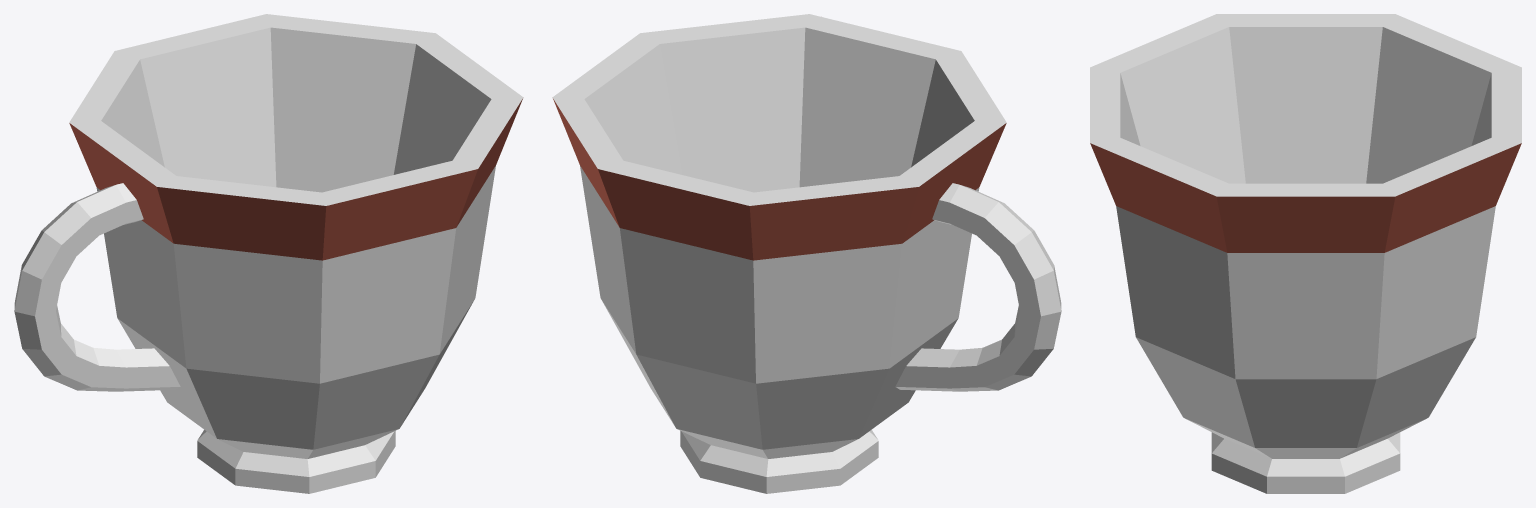
Rendered from Cup1_C3.fbx.
3 renders of one model, left to right at view 1: azimuth 30°, elevation 25°; view 2: azimuth 150°, elevation 25°; view 3: azimuth 270°, elevation 25°, orthographic.
Visible parts, largest first — view 1: Cup1_C3; view 2: Cup1_C3; view 3: Cup1_C3.
Part boxes in pixels (left/top/right/bottom): Cup1_C3: left=14, top=14, right=523, bottom=493; Cup1_C3: left=552, top=14, right=1061, bottom=493; Cup1_C3: left=1090, top=14, right=1521, bottom=493.
Bounding box in the file's own units: 14.44 × 10.14 × 11.38.
